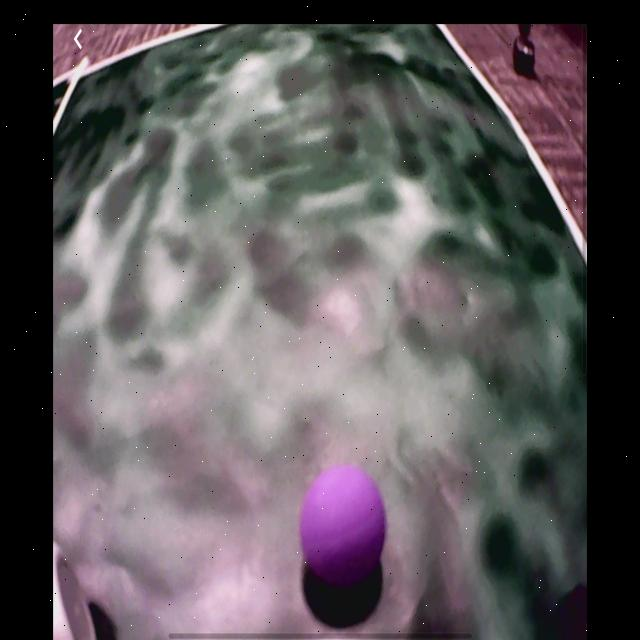ball: (301, 469, 388, 592)
